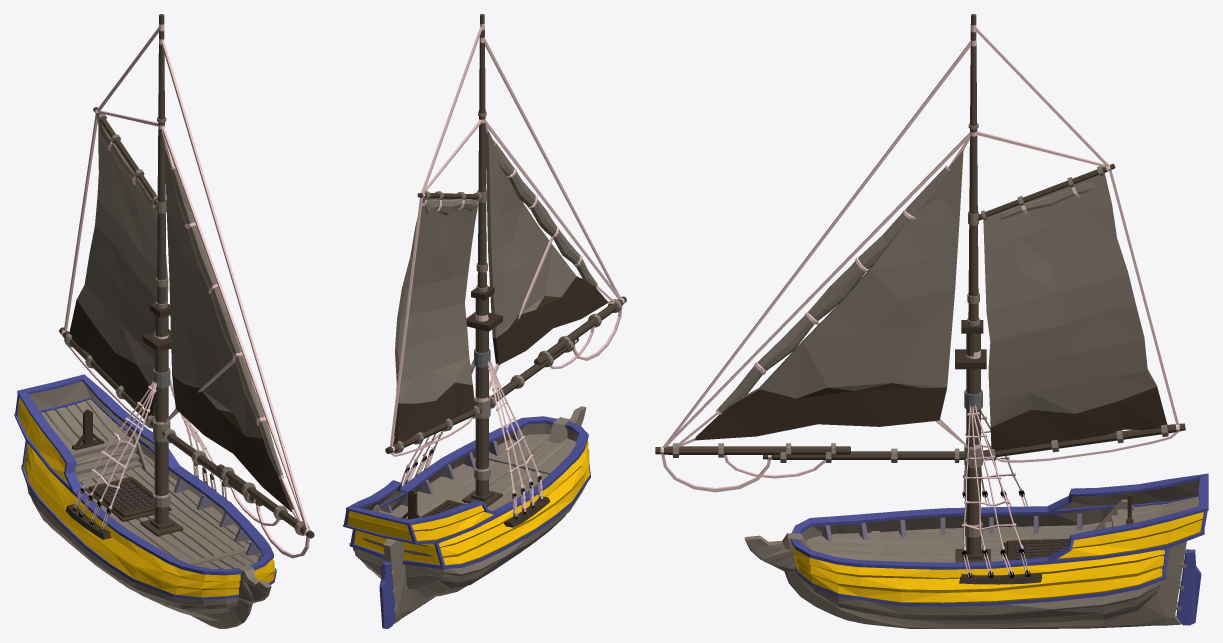
The model's file is SM_Veh_Boat_Medium_01_Hull_Pirate.glb.
3 views of the same model, side by side, from view 1: azimuth 30°, elevation 25°; view 2: azimuth 150°, elevation 25°; view 3: azimuth 270°, elevation 25° (orthographic). The views are drawn at different scales.
Parts seen in each view (by area): view 1: SM_Veh_Boat_Medium_01_Hull_Pirate_00, SM_Veh_Boat_Medium_01_Hull_Pirate_03, SM_Veh_Boat_Medium_01_Hull_Pirate_01, SM_Veh_Boat_Medium_01_Hull_Pirate_02; view 2: SM_Veh_Boat_Medium_01_Hull_Pirate_00, SM_Veh_Boat_Medium_01_Hull_Pirate_03, SM_Veh_Boat_Medium_01_Hull_Pirate_02, SM_Veh_Boat_Medium_01_Hull_Pirate_01; view 3: SM_Veh_Boat_Medium_01_Hull_Pirate_03, SM_Veh_Boat_Medium_01_Hull_Pirate_00, SM_Veh_Boat_Medium_01_Hull_Pirate_01, SM_Veh_Boat_Medium_01_Hull_Pirate_02.
Part boxes in pixels (x1,y1,x2,y2): SM_Veh_Boat_Medium_01_Hull_Pirate_00: (14, 374, 276, 628); SM_Veh_Boat_Medium_01_Hull_Pirate_03: (69, 122, 294, 511); SM_Veh_Boat_Medium_01_Hull_Pirate_01: (60, 15, 314, 557); SM_Veh_Boat_Medium_01_Hull_Pirate_02: (59, 14, 313, 558); SM_Veh_Boat_Medium_01_Hull_Pirate_00: (343, 359, 590, 628); SM_Veh_Boat_Medium_01_Hull_Pirate_03: (394, 132, 608, 443); SM_Veh_Boat_Medium_01_Hull_Pirate_02: (385, 14, 625, 496); SM_Veh_Boat_Medium_01_Hull_Pirate_01: (390, 15, 626, 494); SM_Veh_Boat_Medium_01_Hull_Pirate_03: (694, 150, 1167, 451); SM_Veh_Boat_Medium_01_Hull_Pirate_00: (744, 405, 1208, 628); SM_Veh_Boat_Medium_01_Hull_Pirate_01: (655, 16, 1180, 555); SM_Veh_Boat_Medium_01_Hull_Pirate_02: (655, 14, 1185, 555).
Size of the model in its own units: 5.07 by 20.84 by 17.04.
Materials: 1 (1 with a texture image).
